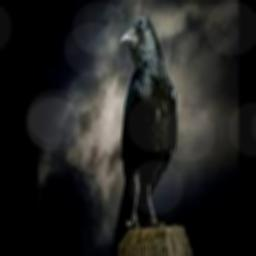Crow: (114, 17, 177, 245)
